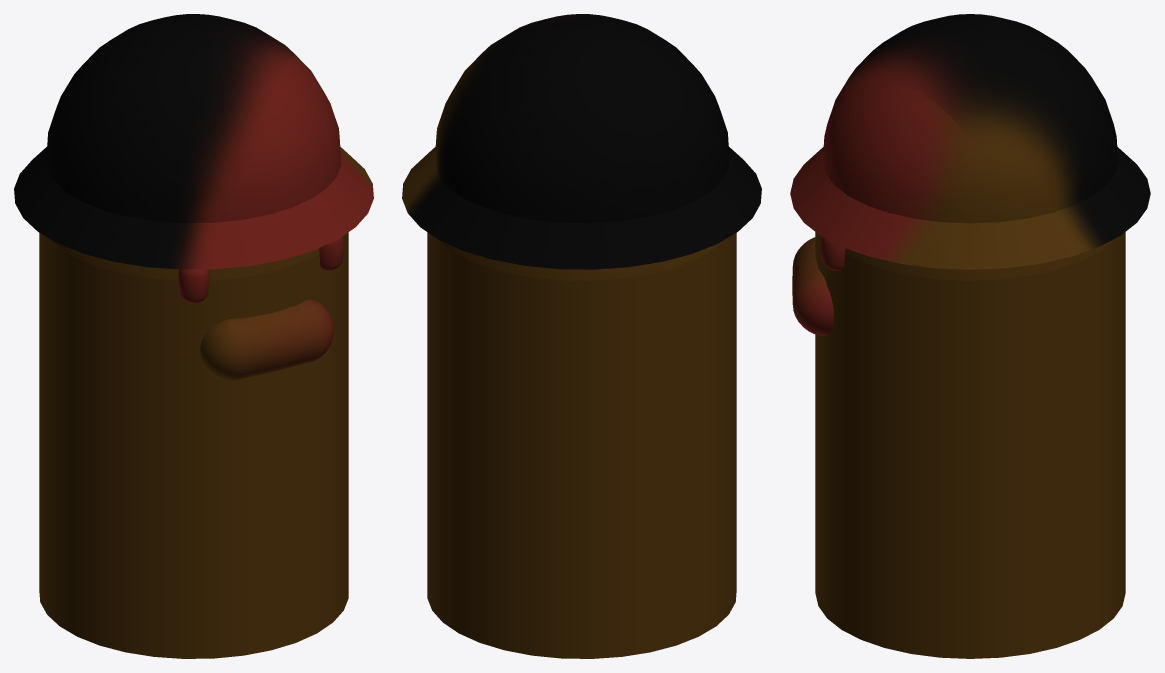
File: Diglett low triangles SMOOTH FACE.fbx_Collection.fbx
3 renders of one model, left to right at view 1: azimuth 30°, elevation 25°; view 2: azimuth 150°, elevation 25°; view 3: azimuth 270°, elevation 25°, orthographic.
Visible parts, largest first — view 1: Sphere; view 2: Sphere; view 3: Sphere.
Boxes of the visible parts, x1=… form: Sphere: x1=14, y1=14, x2=373, y2=658; Sphere: x1=402, y1=14, x2=761, y2=658; Sphere: x1=790, y1=14, x2=1150, y2=658.
Size of the model in its own units: 233 by 402 by 233.
Materials: 1 (1 with a texture image).
